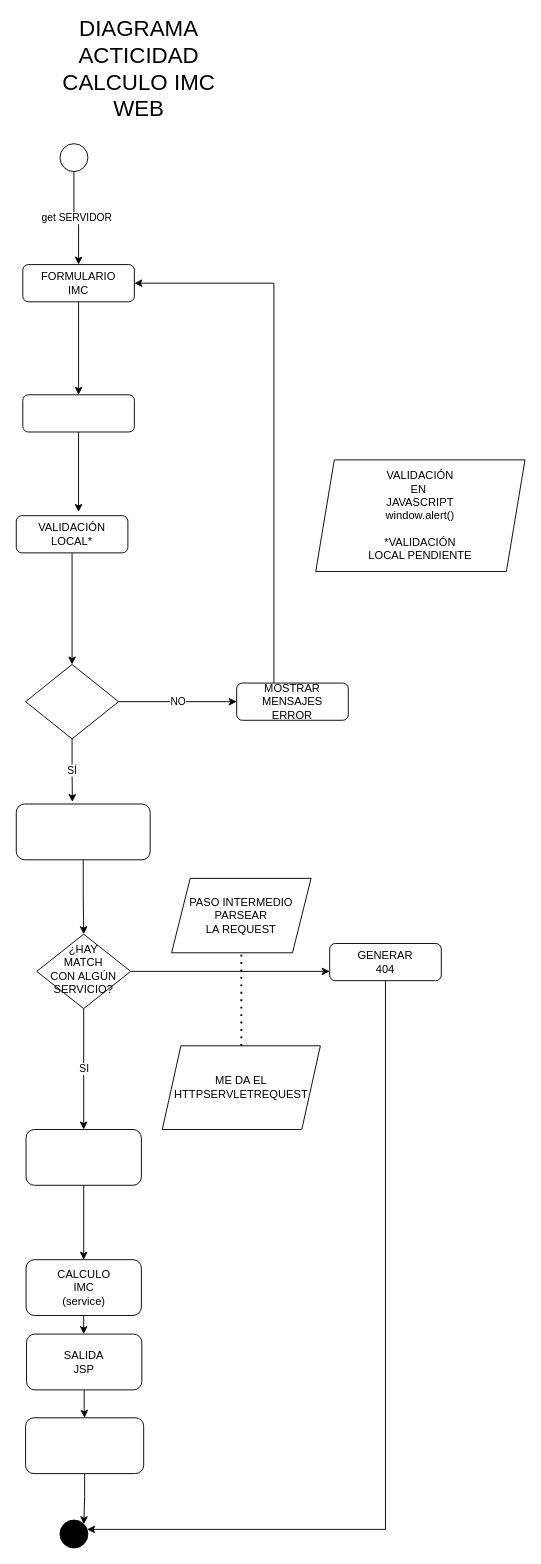
The diagram is 541 pixels wide and 1564 high, and some of its shapes have lost their labels. The shapes that lost their labels are listed below. From the top down, each one's centre as x and y in pixels, then its label:
[78,413]: ENVIAR SUBMIT
[72,701]: ¿VALIDACIÓN OK?
[82,831]: ENVIO PETICION HTTP SERVIDOR
[83,1157]: EJECUTA MÉTODO DEL SERVLET AOSCIADO
[84,1445]: ENVIO RESPUESTA HTML 200
